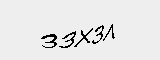З: (56, 26, 76, 51), (39, 29, 58, 54), (89, 20, 105, 49)
Л: (99, 21, 117, 44)
Х: (74, 25, 94, 49)
